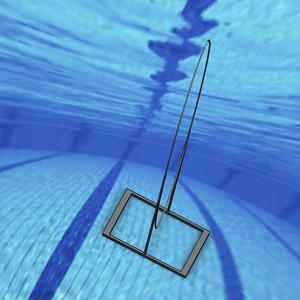circle: (102, 38, 214, 278)
